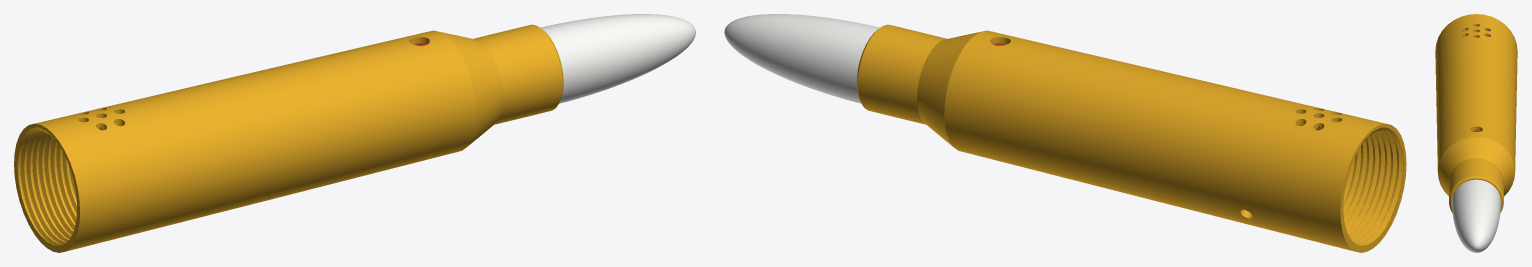
Rendered from AFTR_AR3.glb.
3 views of the same model, side by side, from view 1: azimuth 30°, elevation 25°; view 2: azimuth 150°, elevation 25°; view 3: azimuth 270°, elevation 25° (orthographic). The views are drawn at different scales.
Visible parts, largest first — view 1: node_id7, node_id11; view 2: node_id7, node_id11; view 3: node_id7, node_id11.
Part boxes in pixels (x1=…): node_id7: x1=14, y1=24, x2=563, y2=252; node_id11: x1=541, y1=14, x2=695, y2=103; node_id7: x1=856, y1=24, x2=1406, y2=252; node_id11: x1=724, y1=14, x2=879, y2=103; node_id7: x1=1435, y1=14, x2=1517, y2=212; node_id11: x1=1452, y1=179, x2=1500, y2=252.
Bounding box in the file's own units: 0.512 × 0.0905 × 0.0905.
Materials: 9 (9 with a texture image).
